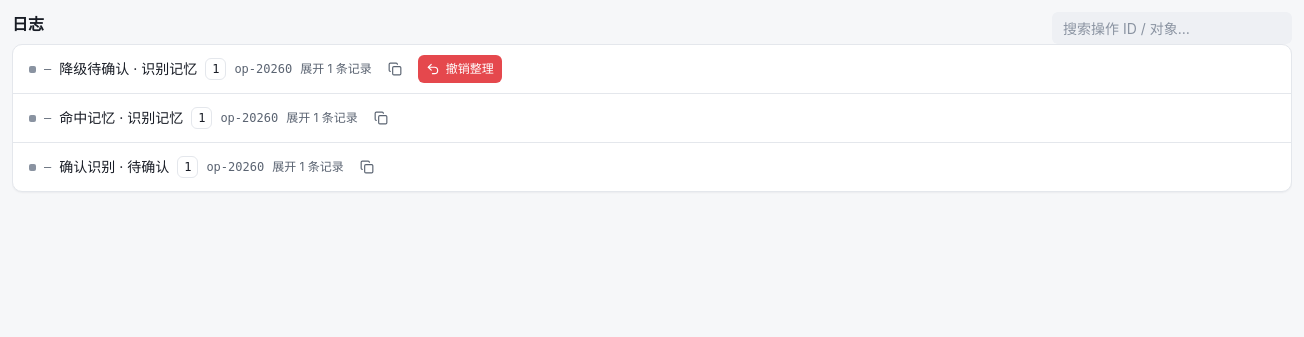
Scenario: LogsPage(分组契约冒烟,mock fixtures 无时间字段) › 展开分组懒加载明细行(instruction/reverse JSON + 中文事件)
Click the text "命中记忆 · 识别记忆" at (121, 118), box [59,108,183,128]
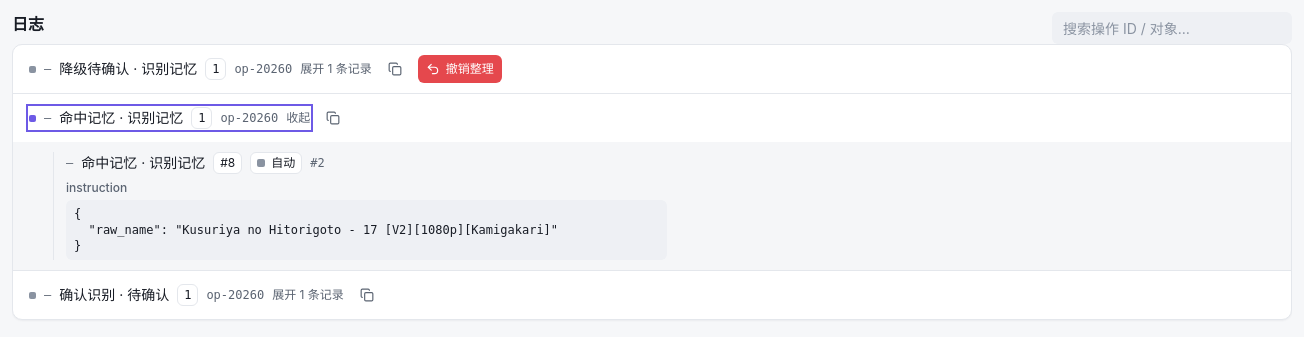
Expected: the text "instruction" is shown, [66,180,127,195]
Expected: the text "Kusuriya no Hitorigoto" is shown, [74,207,558,253]
Expected: the text "自动" is shown, [271,155,295,171]
